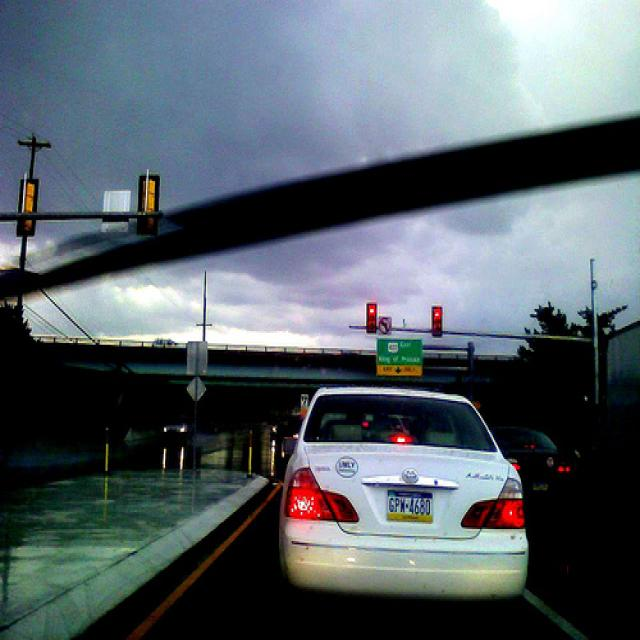Vehicle: (281, 387, 534, 599), (490, 426, 586, 515), (161, 423, 193, 472)
